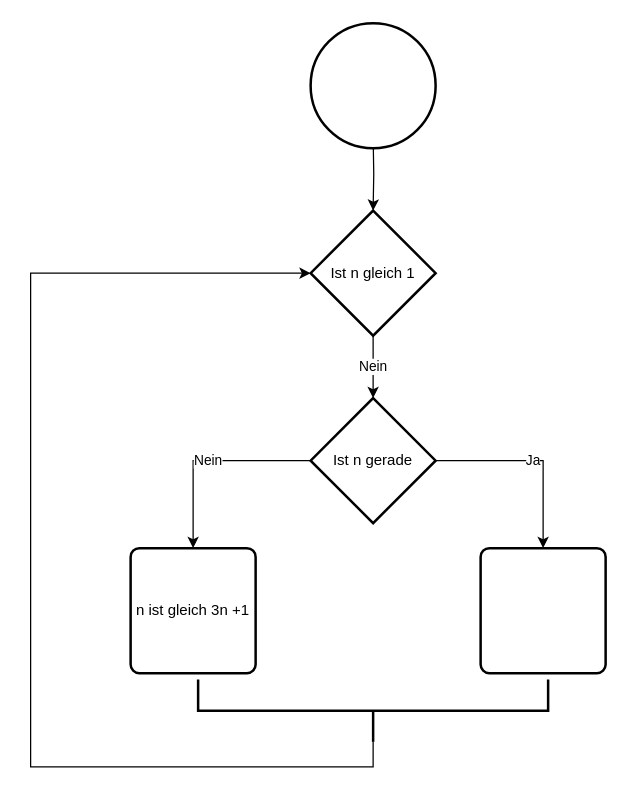
Some shapes in this 629 by 799 pixel diagram are drawn without their labels. Here are the shapes that lost their labels. From the top down, the centre of each, then its label:
At pixel 372 85: "n ist gleich 19".
At pixel 542 610: "n ist gleich n durch 2".
